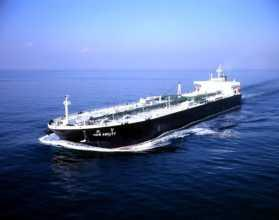Cargoship: (51, 57, 242, 151)
